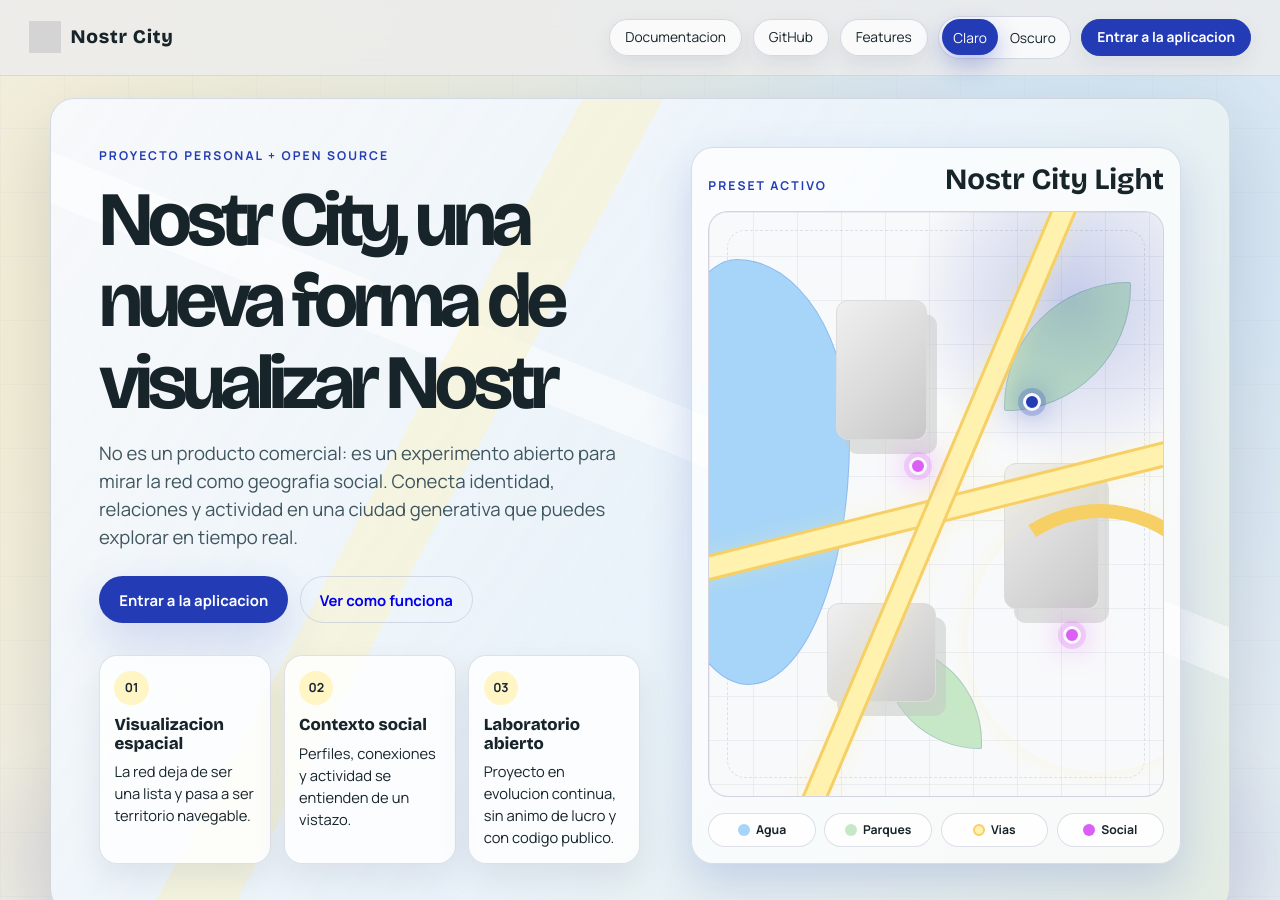
Scenario: LandingPage theme selector › labels the map preview with the active Nostr City preset
Expected: the heading "Nostr City Light" is shown, [945,164,1164,195]
Click the button "Oscuro" at coordinates (1033, 37), box [998,19,1067,55]
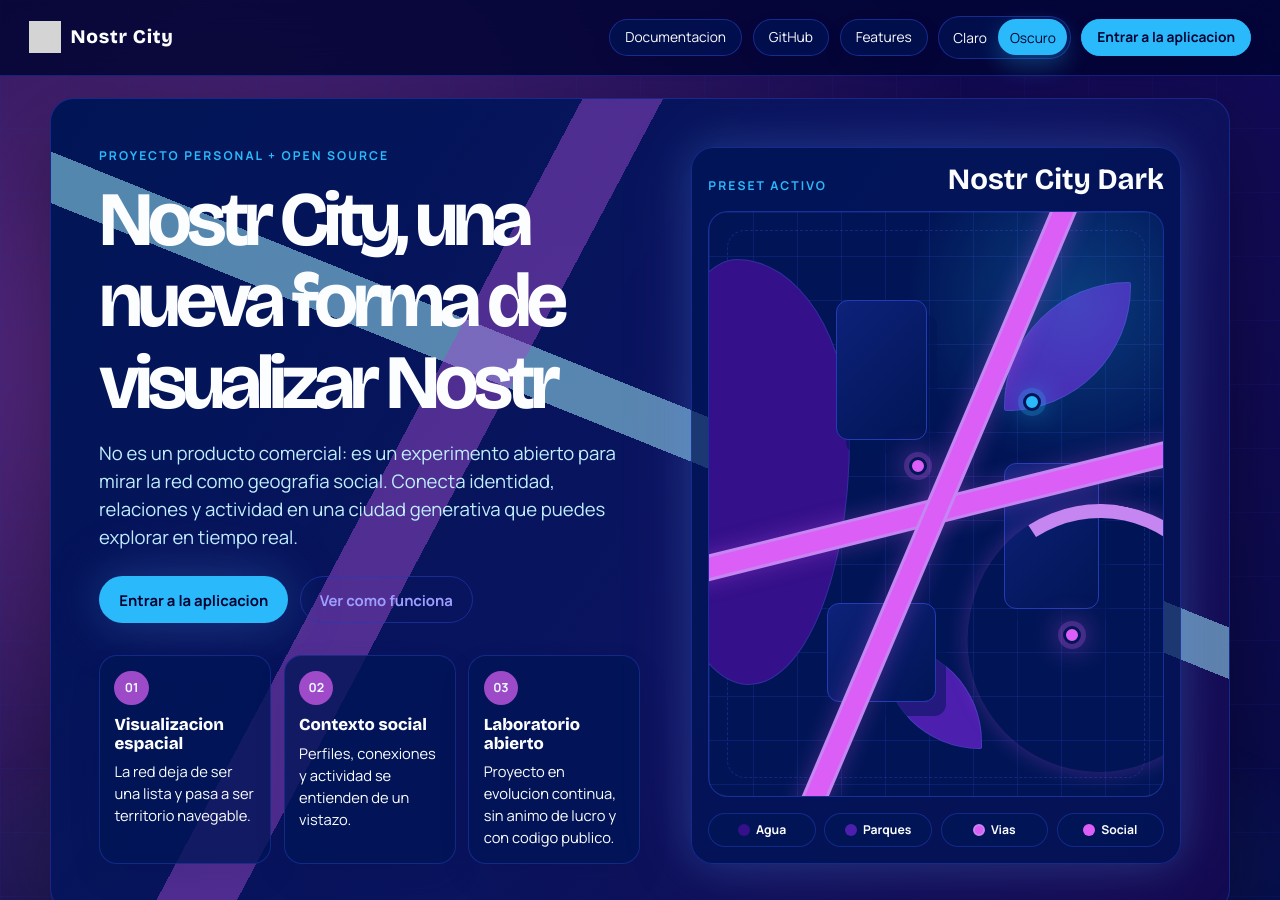
Expected: the heading "Nostr City Dark" is shown, [948,164,1164,195]
